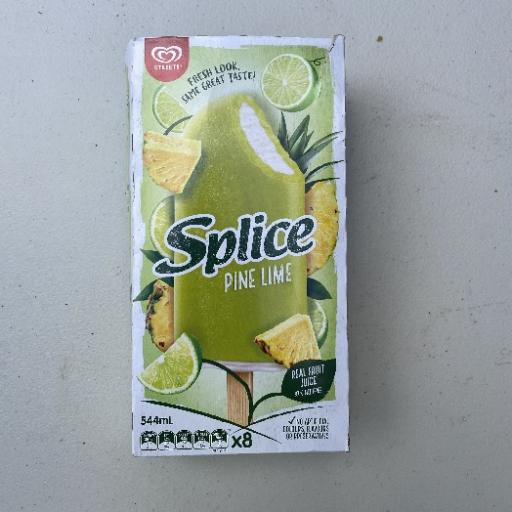Cardboard: (126, 34, 351, 457)
